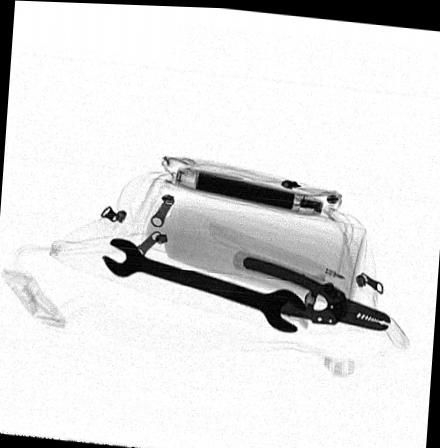Pliers: (230, 255, 392, 327)
Powerbank: (173, 164, 323, 213)
Wrench: (102, 237, 307, 330)
